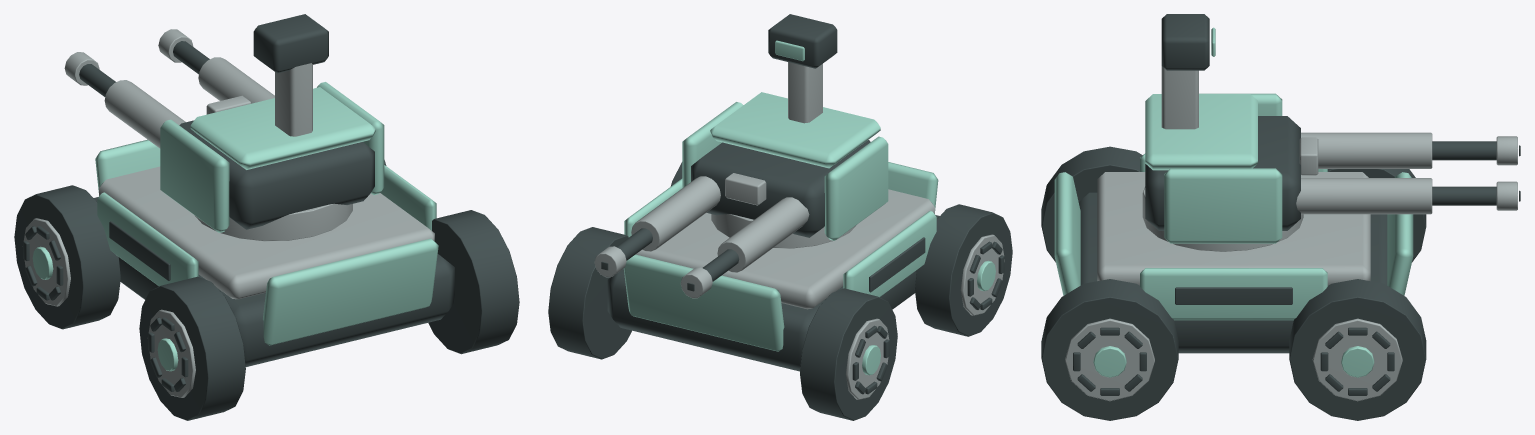
File: sentry-neutral.glb
The picture shows the model from 3 angles, left to right: view 1: azimuth 30°, elevation 25°; view 2: azimuth 150°, elevation 25°; view 3: azimuth 270°, elevation 25°; orthographic projection. The views are drawn at different scales.
Parts seen in each view (by area): view 1: sentry-chassis, sentry-armor, sentry-mechanics; view 2: sentry-chassis, sentry-armor, sentry-mechanics; view 3: sentry-chassis, sentry-mechanics, sentry-armor.
Part boxes in pixels (x1,y1,x2,y2): sentry-chassis: [14, 14, 519, 420]; sentry-armor: [32, 82, 438, 371]; sentry-mechanics: [22, 29, 434, 397]; sentry-chassis: [548, 14, 1012, 420]; sentry-armor: [623, 40, 995, 375]; sentry-mechanics: [594, 62, 1004, 399]; sentry-chassis: [1041, 14, 1520, 420]; sentry-mechanics: [1065, 66, 1517, 401]; sentry-armor: [1054, 27, 1413, 377].
Bounding box in the file's own units: 0.7 × 0.66 × 0.8935.
